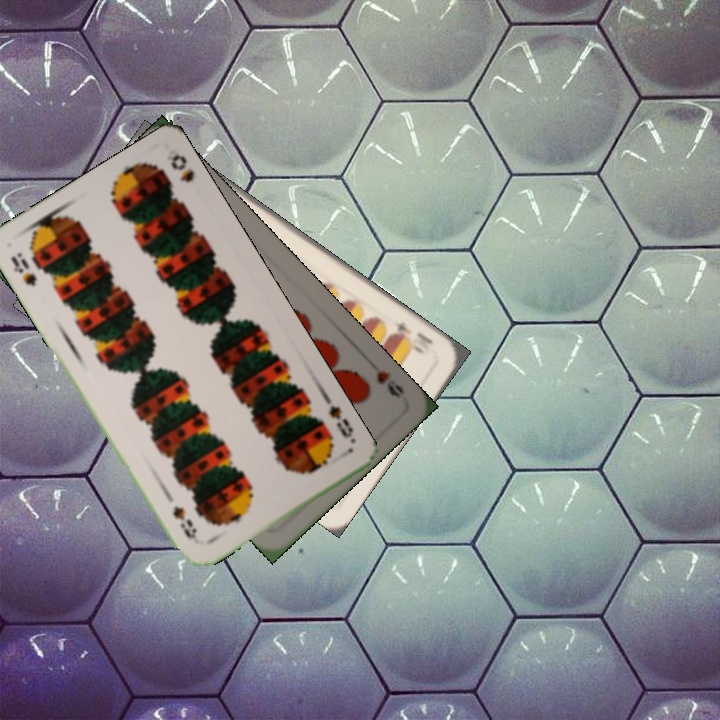E10: (386, 316, 436, 348)
H9: (372, 366, 407, 401)
S8: (6, 248, 40, 290), (325, 401, 356, 441)
